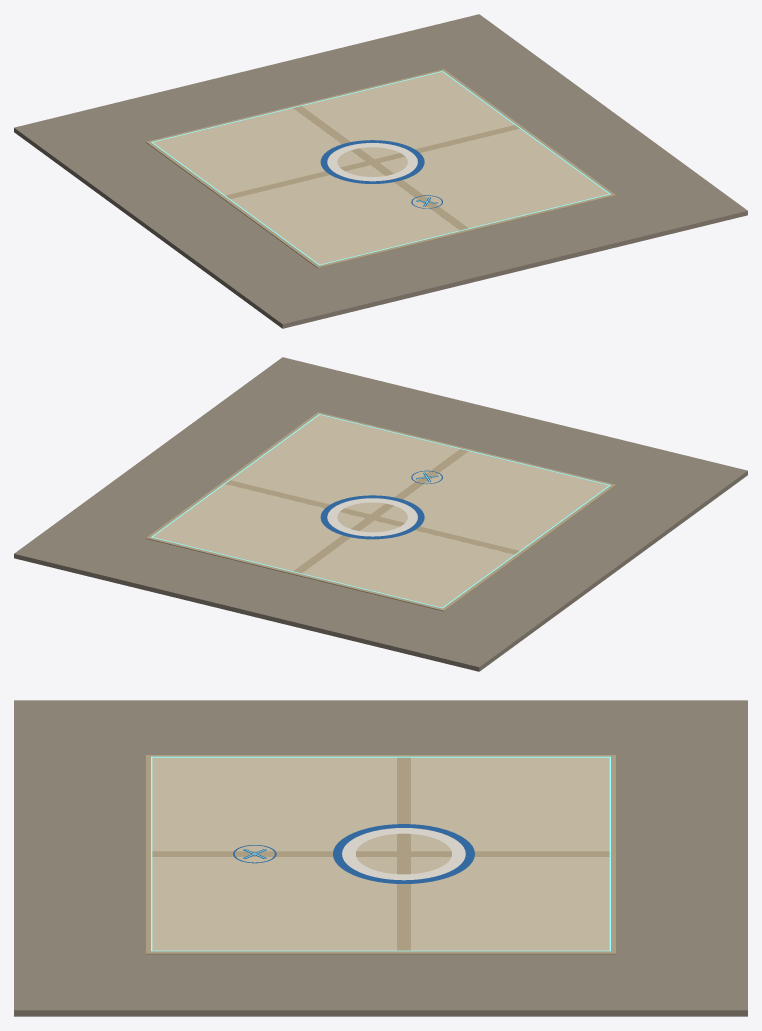
3 renders of one model, top to bottom at view 1: azimuth 30°, elevation 25°; view 2: azimuth 150°, elevation 25°; view 3: azimuth 270°, elevation 25°, orthographic. The views are drawn at different scales.
Parts seen in each view (by area): view 1: ground.lod0; view 2: ground.lod0; view 3: ground.lod0.
Part boxes in pixels (<box>): ground.lod0: <box>14,14,747,328</box>; ground.lod0: <box>14,357,747,671</box>; ground.lod0: <box>14,700,747,1016</box>.
Bounding box in the file's own units: 64 × 0.7344 × 64.
